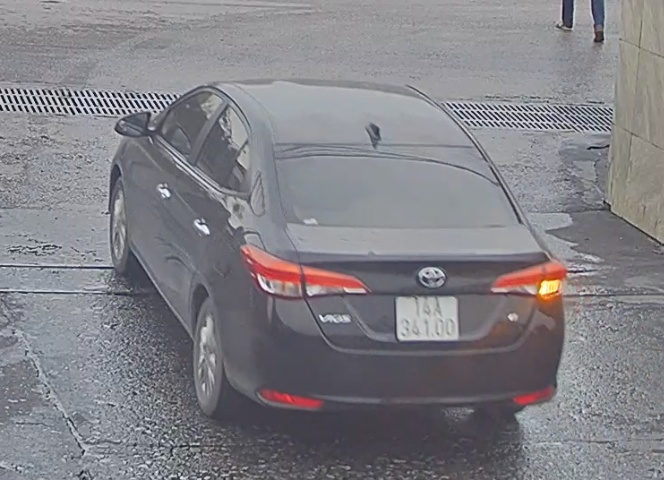vehicle plate: (390, 288, 465, 346)
